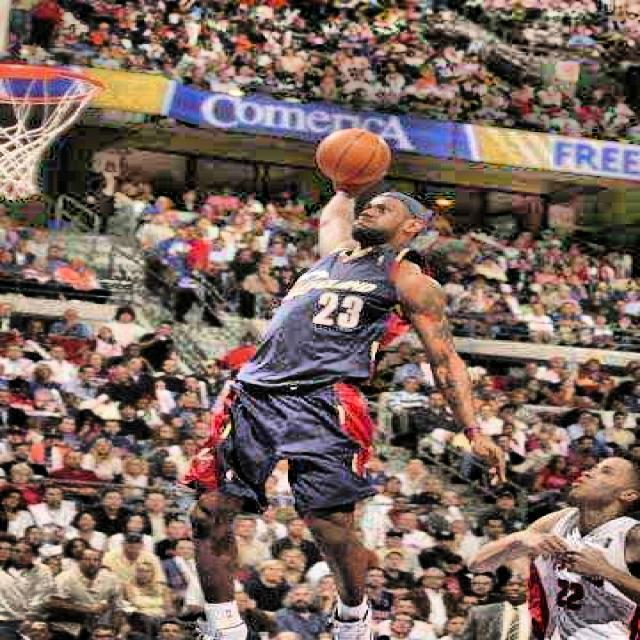board: (316, 126, 392, 182)
rim: (0, 62, 108, 197)
